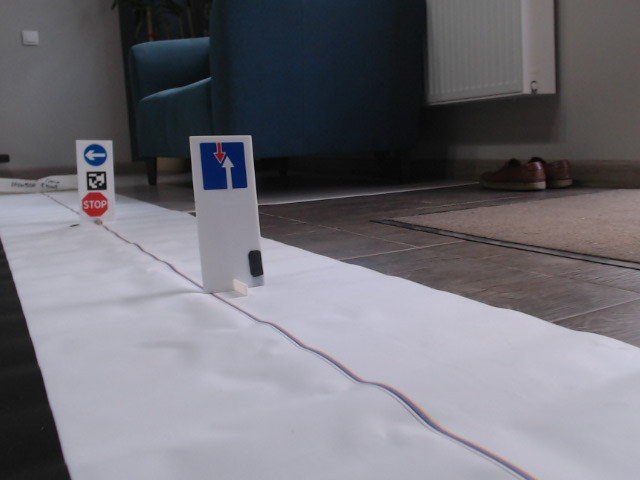Stop: (81, 190, 109, 217)
priority_movement: (199, 142, 248, 191)
